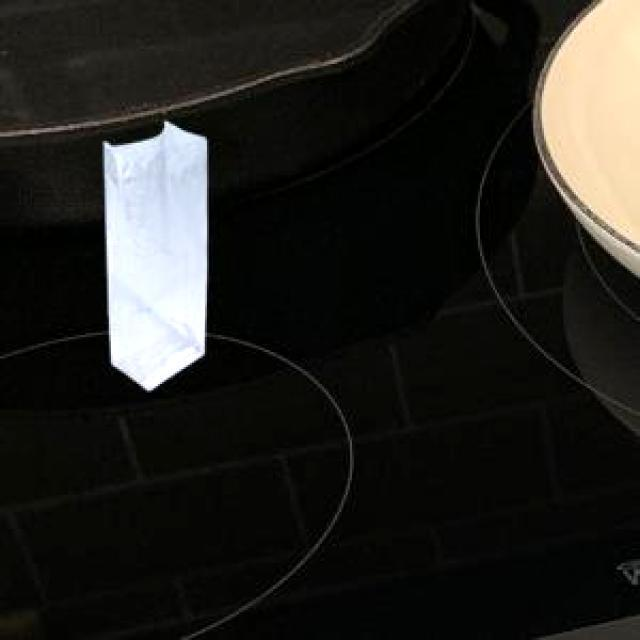Plastic_Bag: (101, 119, 204, 388)
